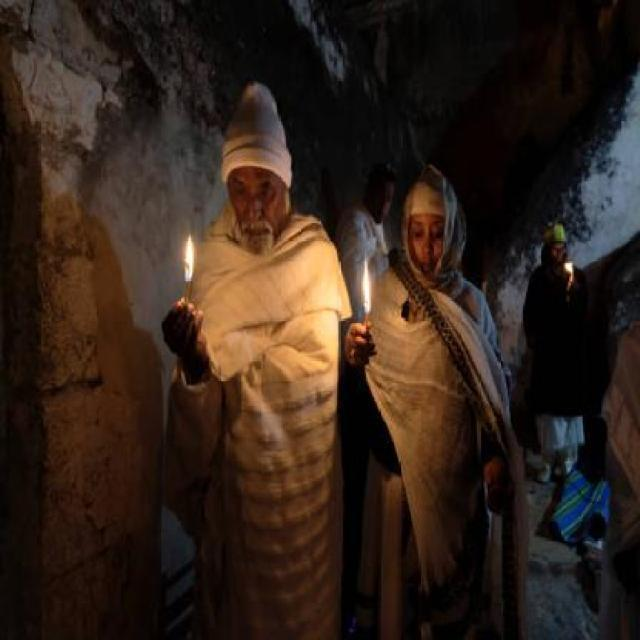Fire: (360, 256, 374, 323), (181, 233, 200, 282), (564, 254, 578, 284)
